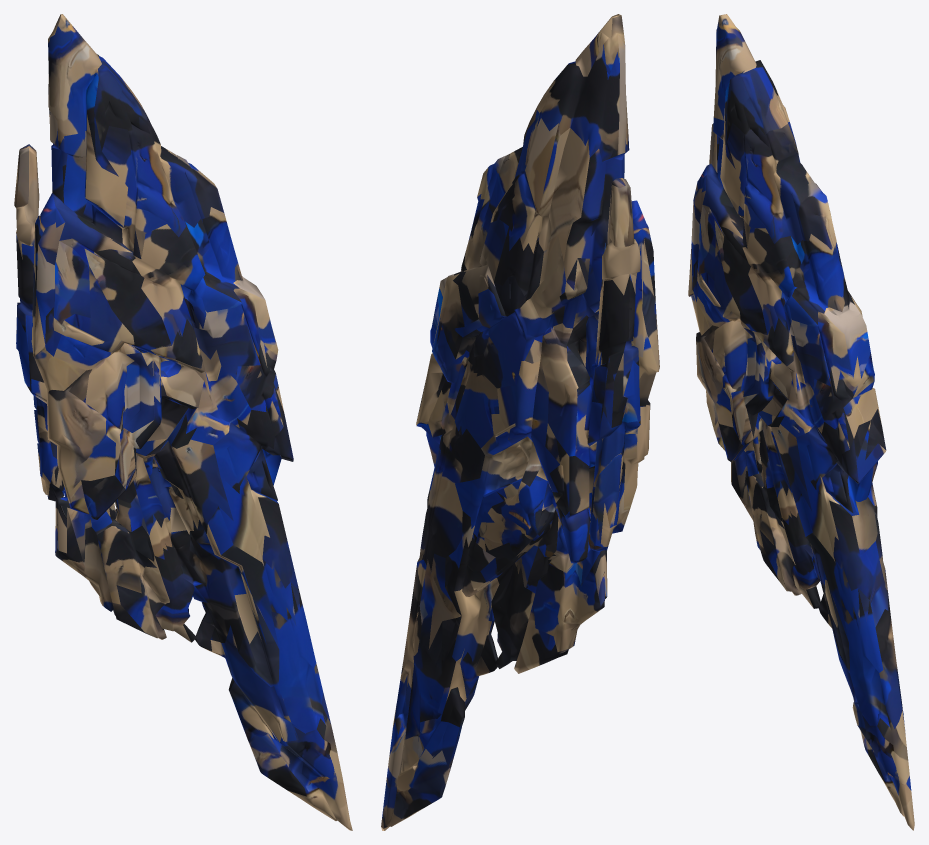
The model's file is MobilityOutBackR.gltf.
3 views of the same model, side by side, from view 1: azimuth 30°, elevation 25°; view 2: azimuth 150°, elevation 25°; view 3: azimuth 330°, elevation 25° (orthographic). The views are drawn at different scales.
Visible parts, largest first — view 1: MobilityOutBackR; view 2: MobilityOutBackR; view 3: MobilityOutBackR.
Part boxes in pixels (x1=…): MobilityOutBackR: x1=14, y1=14, x2=352, y2=830; MobilityOutBackR: x1=381, y1=14, x2=659, y2=830; MobilityOutBackR: x1=688, y1=14, x2=914, y2=830.
Size of the model in its own units: 0.3485 by 0.9813 by 0.1339.
Materials: 1 (1 with a texture image).
